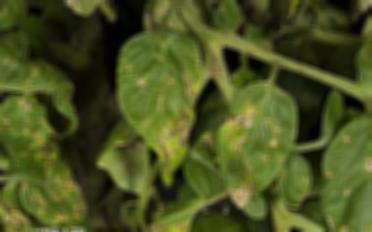Tomato Septoria leaf spot: (110, 29, 201, 193), (211, 82, 304, 209), (317, 103, 372, 232), (0, 90, 50, 167), (136, 193, 211, 232), (59, 0, 112, 22)
